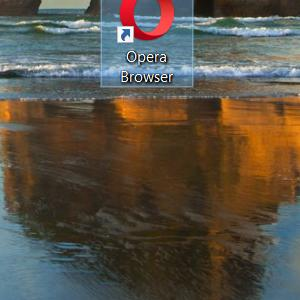opera: (117, 1, 175, 44)
